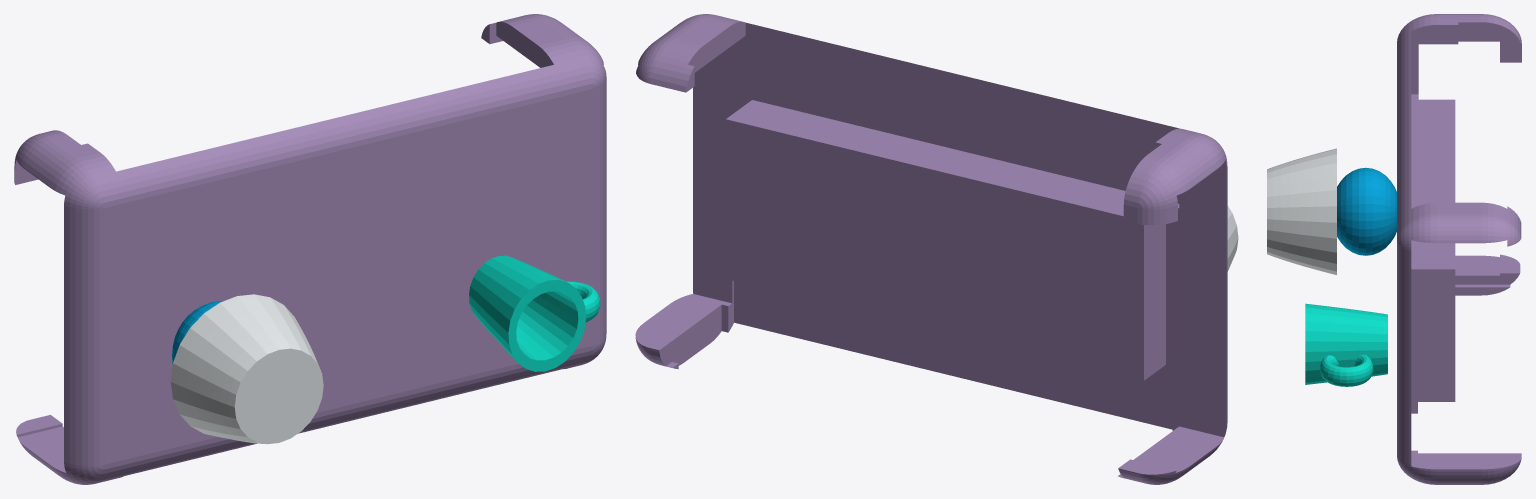
File: tinker.obj
3 renders of one model, left to right at view 1: azimuth 30°, elevation 25°; view 2: azimuth 150°, elevation 25°; view 3: azimuth 270°, elevation 25°, orthographic. The views are drawn at different scales.
Visible parts, largest first — view 1: group_0_10520757, group_0_14541540, group_0_646086, group_0_40919; view 2: group_0_10520757; view 3: group_0_10520757, group_0_14541540, group_0_646086, group_0_40919.
Boxes of the visible parts, <box> form: group_0_10520757: <box>14,14,606,484</box>; group_0_14541540: <box>170,294,323,444</box>; group_0_646086: <box>469,255,600,371</box>; group_0_40919: <box>172,301,223,363</box>; group_0_10520757: <box>635,14,1227,484</box>; group_0_10520757: <box>1397,14,1521,484</box>; group_0_14541540: <box>1267,148,1336,274</box>; group_0_646086: <box>1305,303,1387,386</box>; group_0_40919: <box>1337,167,1396,255</box>.
Bounding box in the file's own units: 82.47 × 46.4 × 40.
